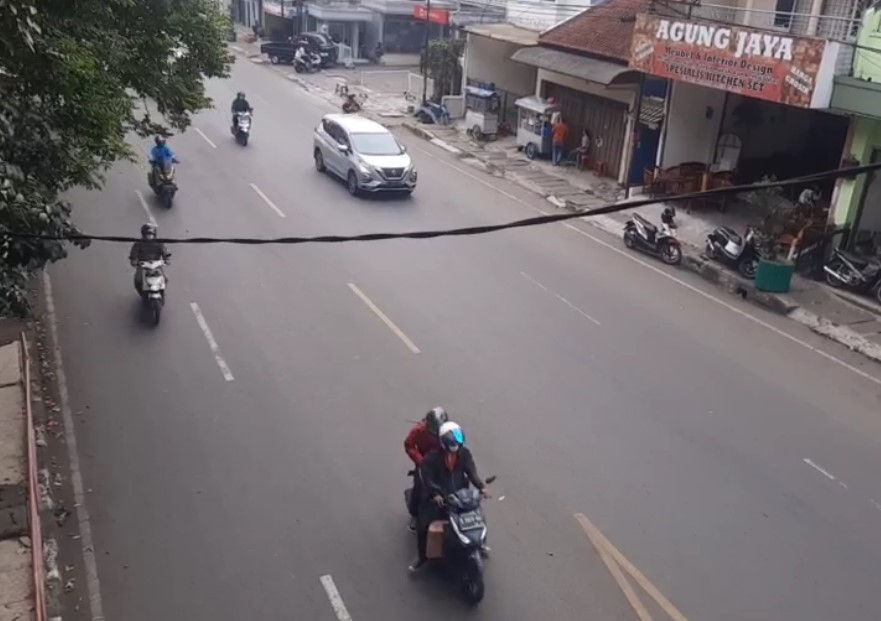mobil: (305, 110, 413, 194)
motor: (393, 408, 496, 602), (127, 229, 170, 322), (143, 144, 183, 208), (230, 95, 256, 140)
